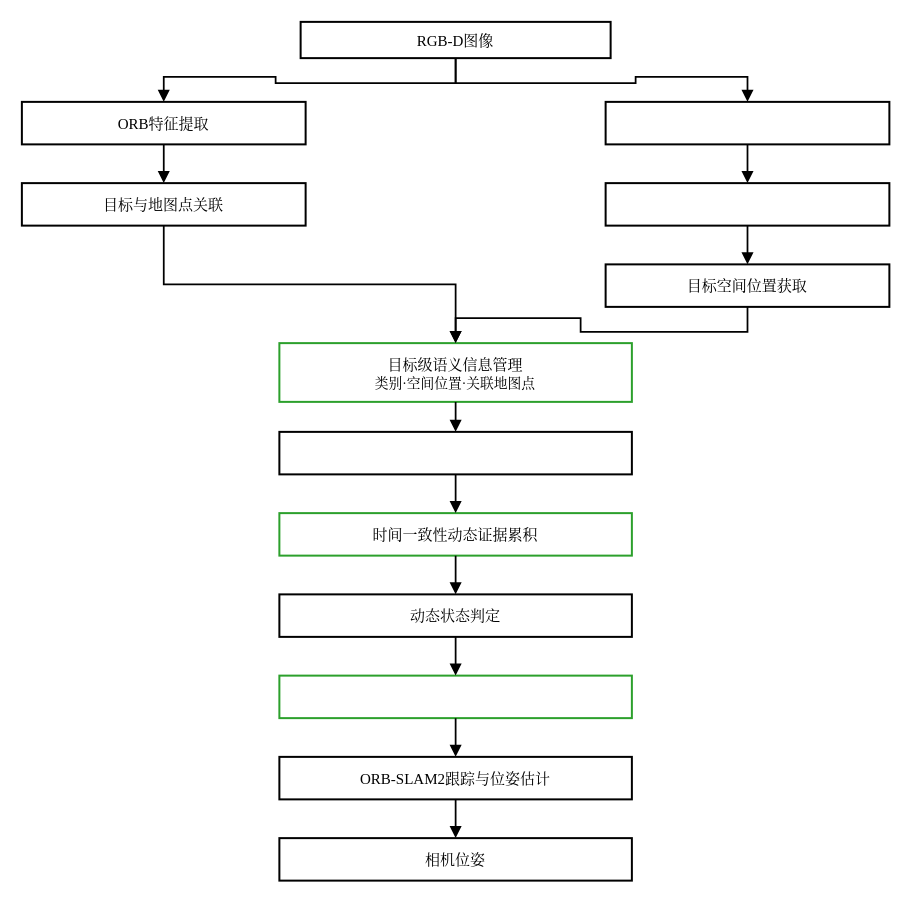
Some shapes in this 913 by 904 pixel diagram are drawn without their labels. The centre of each missing label's shape, as x and y in pixels:
"动态地图点约束" goes at (x=455, y=696).
"当前语义观测" goes at (x=455, y=452).
"目标检测" goes at (x=747, y=122).
"类别与检测区域" goes at (x=747, y=204).
